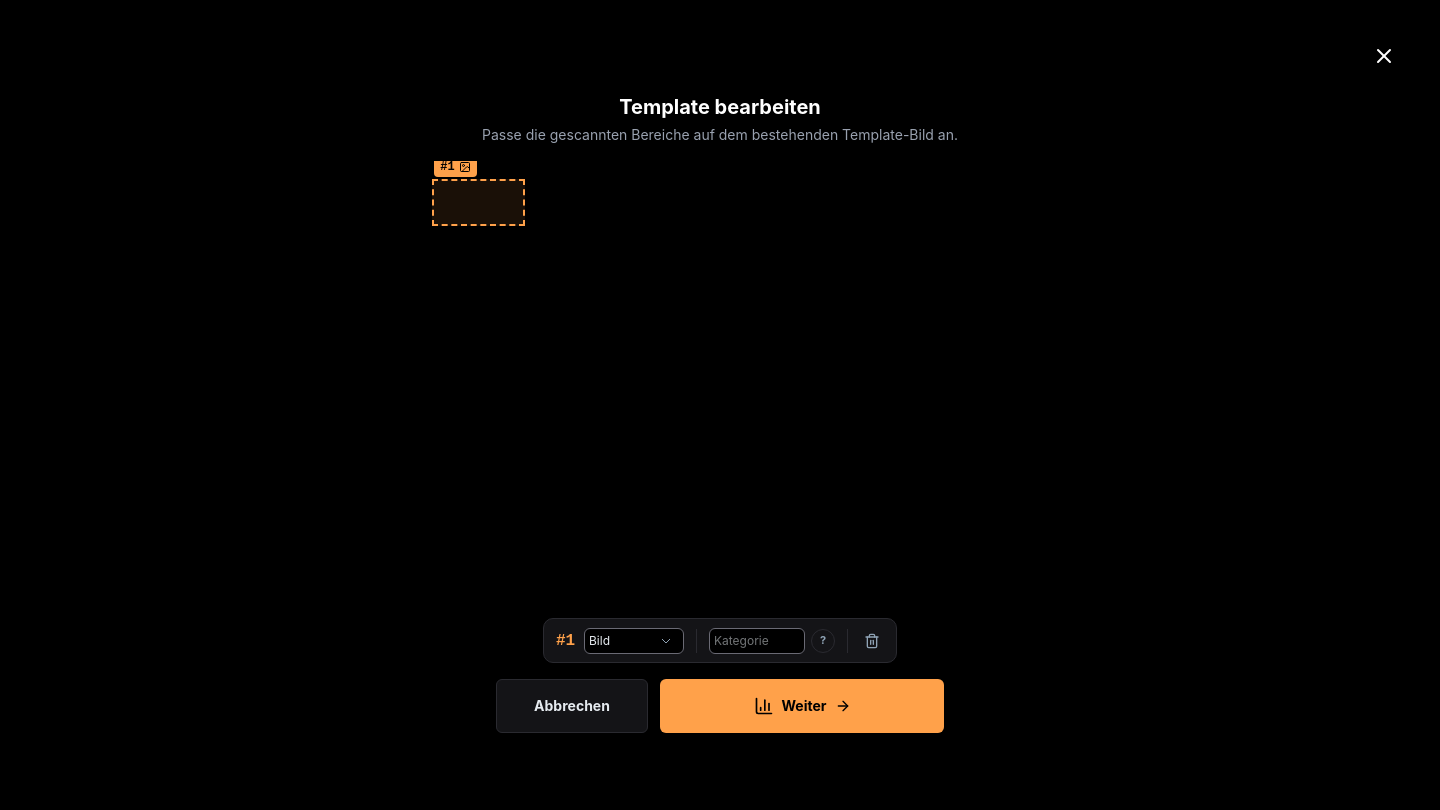
it: TemplateEditor › stability analysis panel › shows a caution line when the sweep is imperfect
This screenshot has width=1440, height=810.
Expected: the number of buttons titled "Region löschen" is 1, [860,629,884,653]
Step 1. Click the button "Weiter" → (802, 706), box [660,679,944,733]
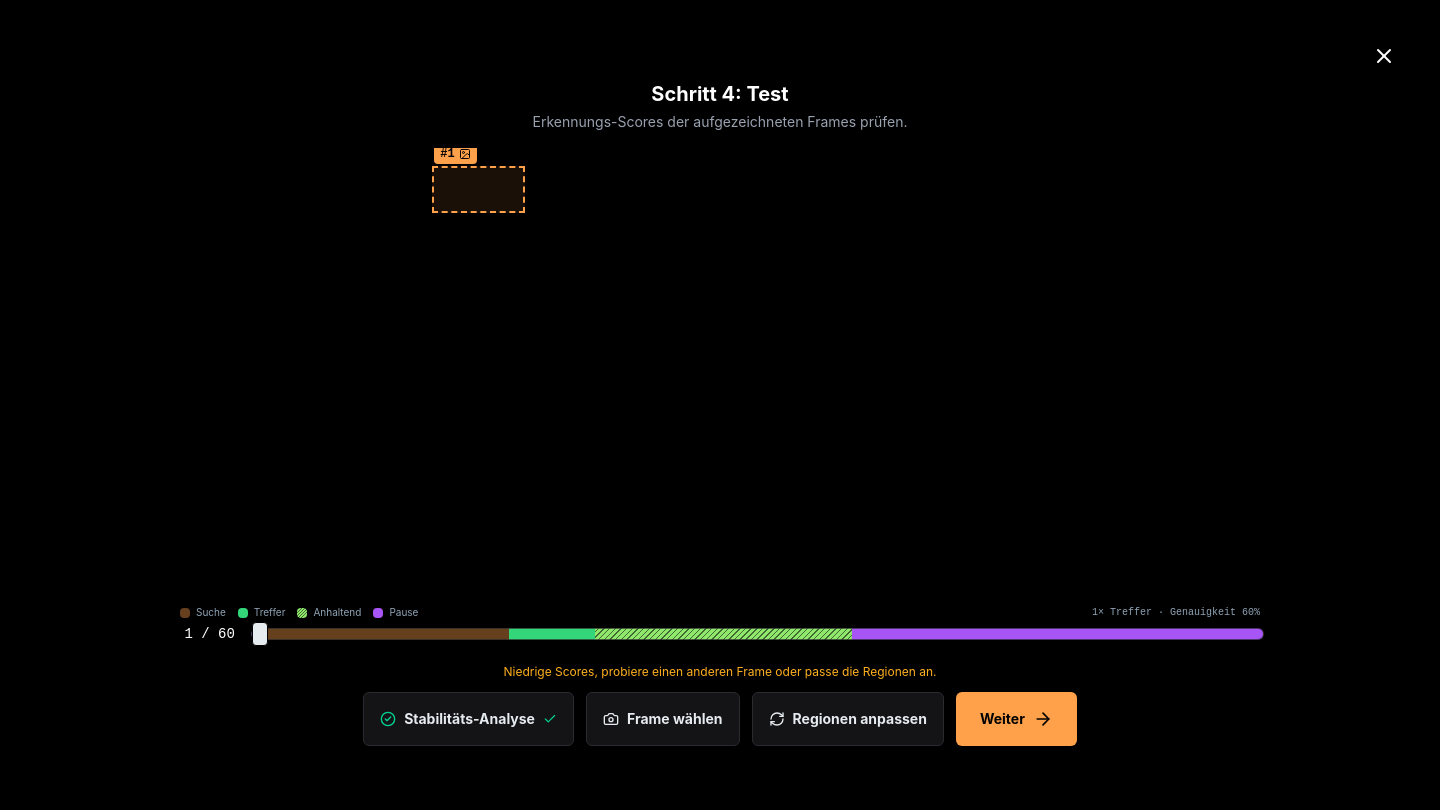
Expected: the button "Frame wählen" is shown, [586,692,740,746]
Step 2. Click the button named "Stabilitäts-Analyse:" → (468, 719), box [363,692,574,746]
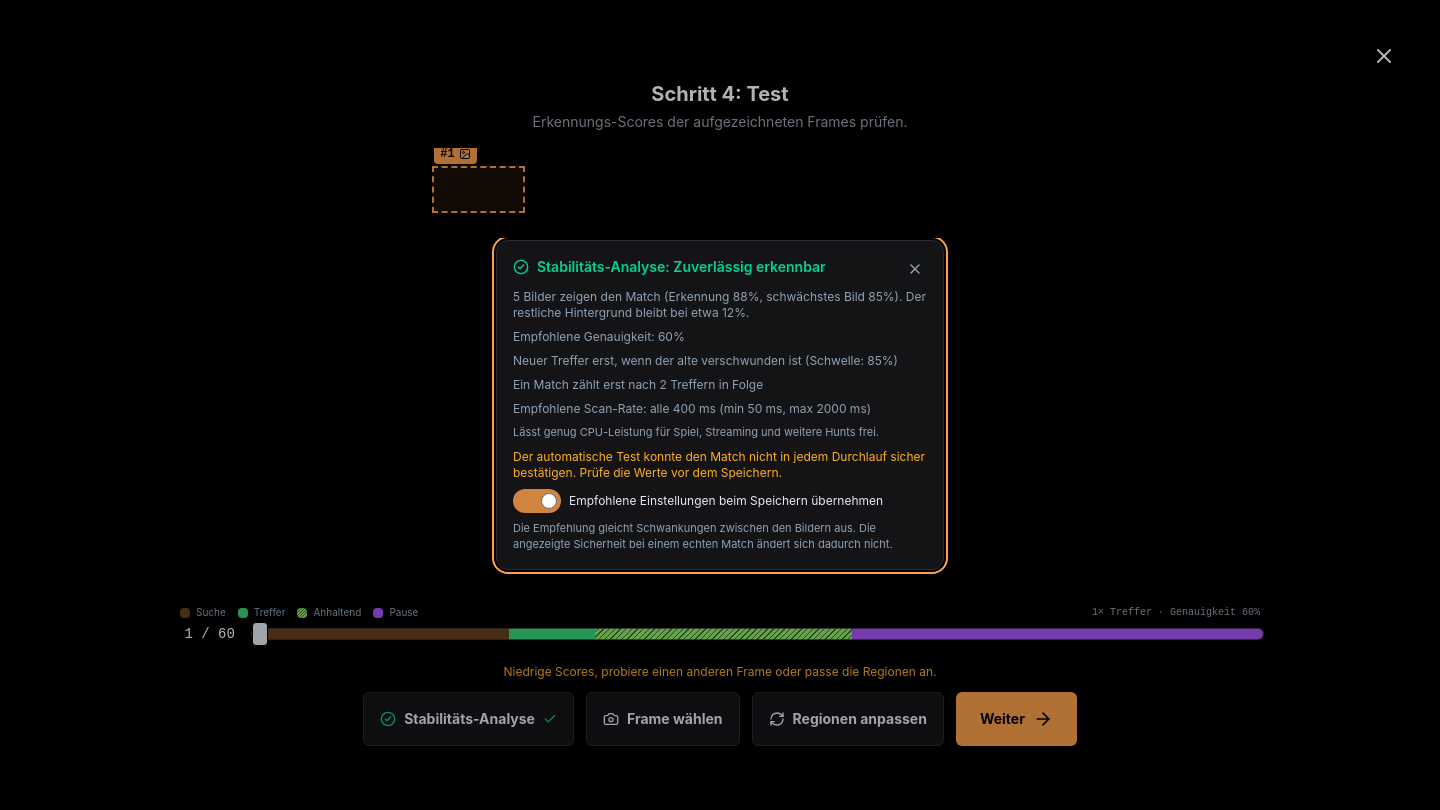
Expected: the text "Der automatische Test konnte den Match nicht in jedem Durchlauf sicher bestätigen" is shown, [513,449,925,480]
